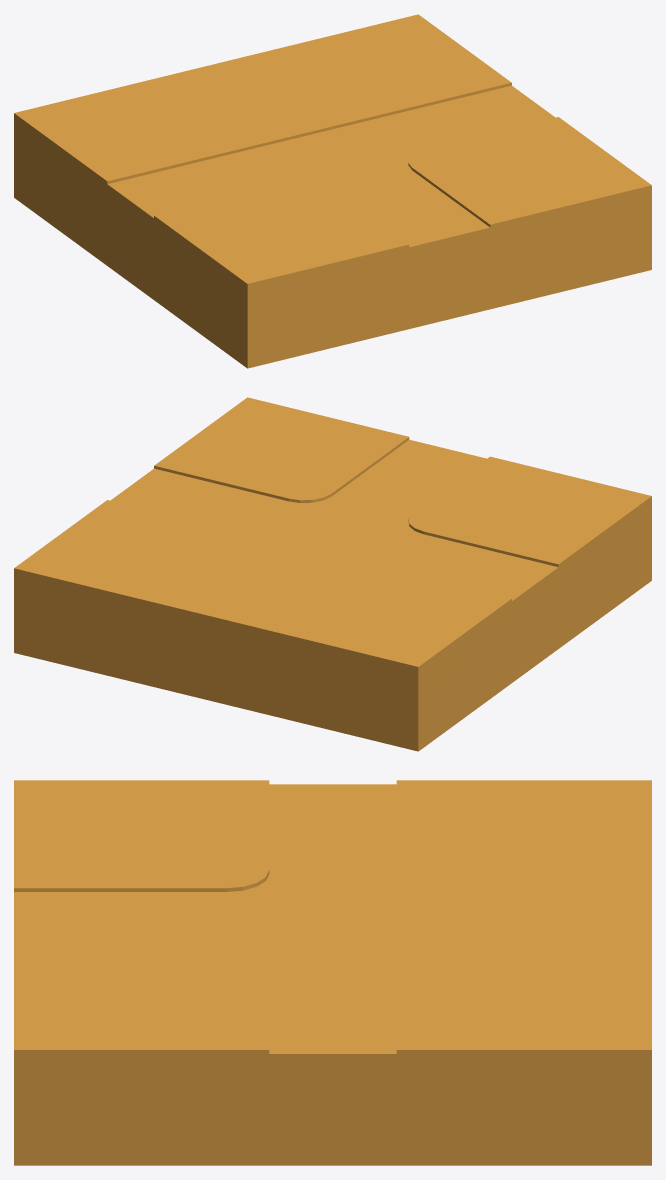
Rendered from tile-road-intersection-t.glb.
3 renders of one model, top to bottom at view 1: azimuth 30°, elevation 25°; view 2: azimuth 150°, elevation 25°; view 3: azimuth 270°, elevation 25°, orthographic. The views are drawn at different scales.
Visible parts, largest first — view 1: tile-road-intersection-t; view 2: tile-road-intersection-t; view 3: tile-road-intersection-t.
Part boxes in pixels (left/top/right/bottom): tile-road-intersection-t: left=14, top=14, right=651, bottom=368; tile-road-intersection-t: left=14, top=397, right=651, bottom=751; tile-road-intersection-t: left=14, top=780, right=651, bottom=1165.
Bounding box in the file's own units: 30 × 6 × 30.
